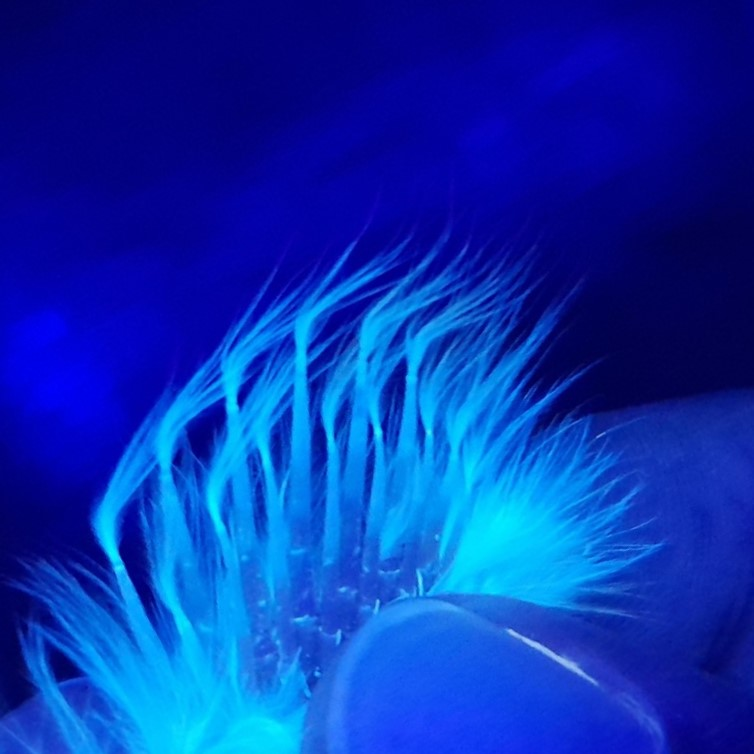female: (93, 318, 468, 622)
